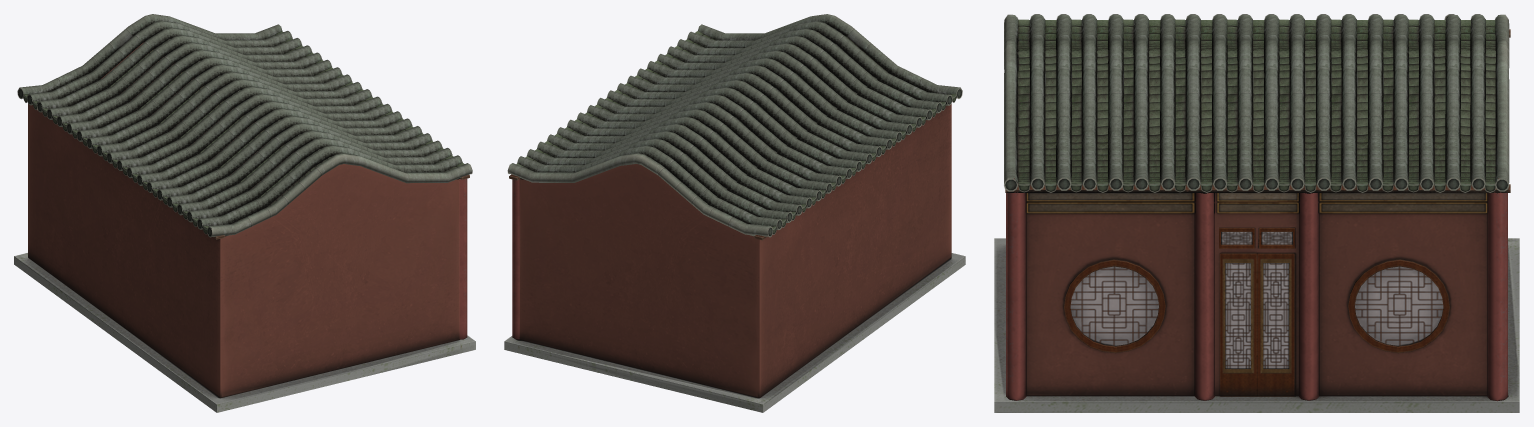
Rendered from low_house_wis_doors_all_in_one.glb.
3 renders of one model, left to right at view 1: azimuth 30°, elevation 25°; view 2: azimuth 150°, elevation 25°; view 3: azimuth 270°, elevation 25°, orthographic. The views are drawn at different scales.
Visible parts, largest first — view 1: Object_2; view 2: Object_2; view 3: Object_2.
Part boxes in pixels (x1,y1,x2,y2): Object_2: (14,14,475,412); Object_2: (504,14,965,412); Object_2: (994,14,1519,412).
Size of the model in its own units: 32.42 by 26.36 by 43.58.
1 material, 1 textured.
